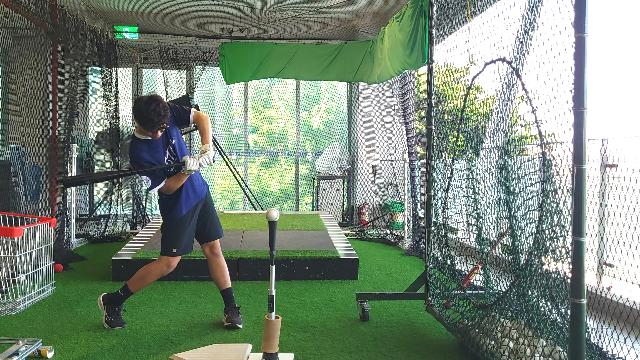bat: (62, 161, 188, 189)
